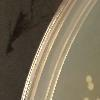white: (87, 81, 94, 91), (85, 74, 93, 82), (94, 95, 100, 100), (82, 96, 88, 100)
